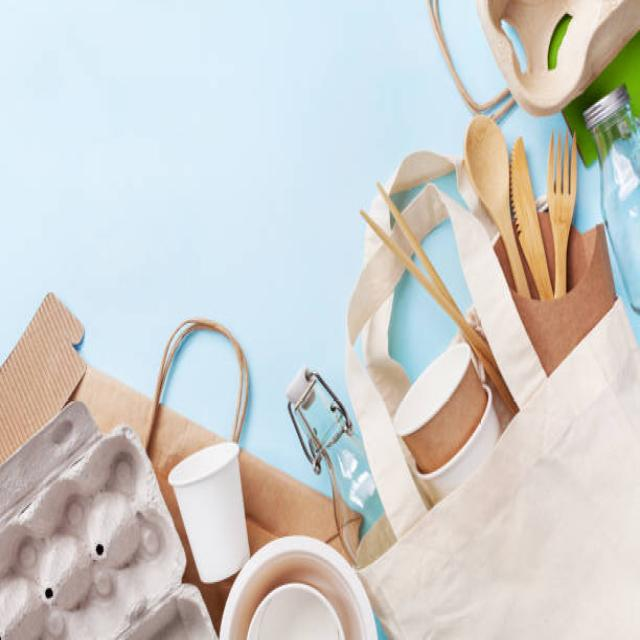cardboard: (1, 306, 395, 637)
